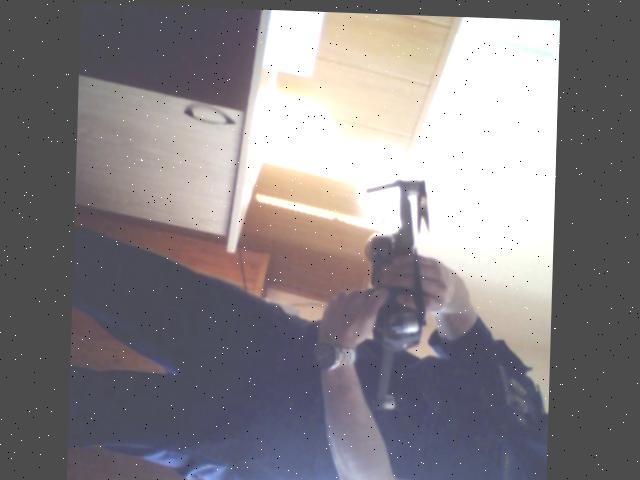drone: (313, 163, 459, 439)
